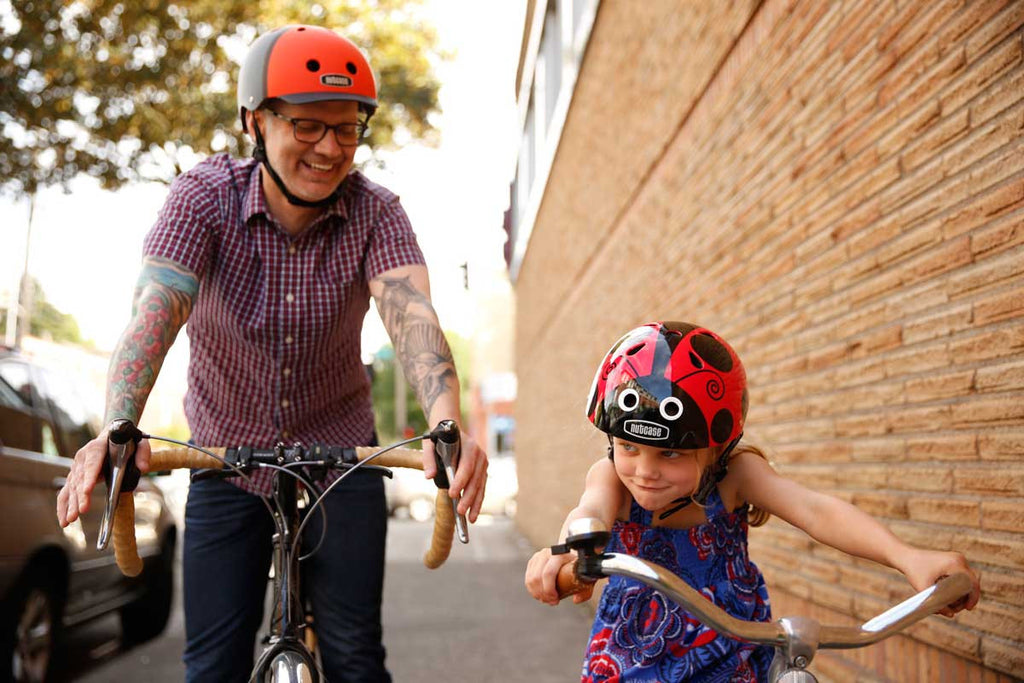helmet: (586, 321, 750, 511), (237, 24, 379, 201)
